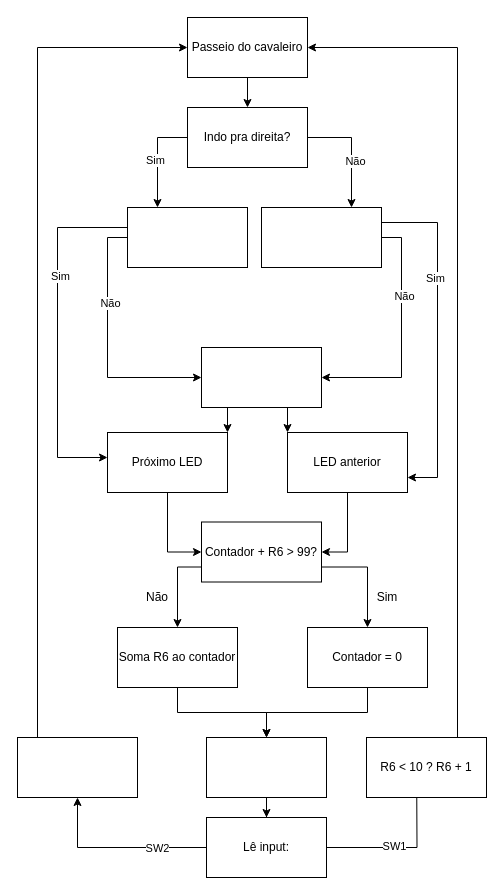
Image size: 504x895. Some labels were removed from this diagram. The box of each missing label's shape, as (x1, y1, x2, y2) in pixels:
Decodifica soma: (206, 736, 326, 798)
Led atual < 8?: (126, 206, 248, 268)
Led atual > 1?: (260, 206, 382, 268)
Muda direção: (200, 346, 322, 408)
R6 > 1 ? R6 - 1: (16, 736, 138, 798)
